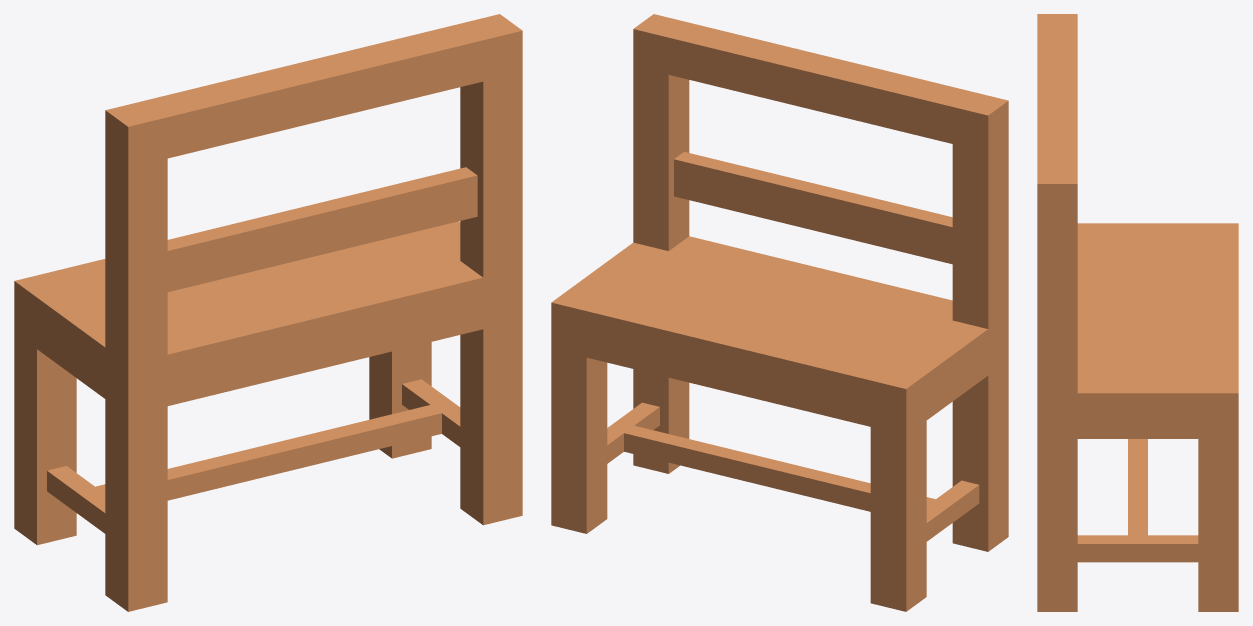
File: Bench.glb
3 views of the same model, side by side, from view 1: azimuth 30°, elevation 25°; view 2: azimuth 150°, elevation 25°; view 3: azimuth 270°, elevation 25° (orthographic). The views are drawn at different scales.
Visible parts, largest first — view 1: Bench; view 2: Bench; view 3: Bench.
Boxes of the visible parts, x1,y1,x2,y2 form: Bench: (14, 14, 522, 611); Bench: (551, 14, 1008, 611); Bench: (1037, 14, 1238, 611).
Bounding box in the file's own units: 1.15 × 1.35 × 0.5727.
